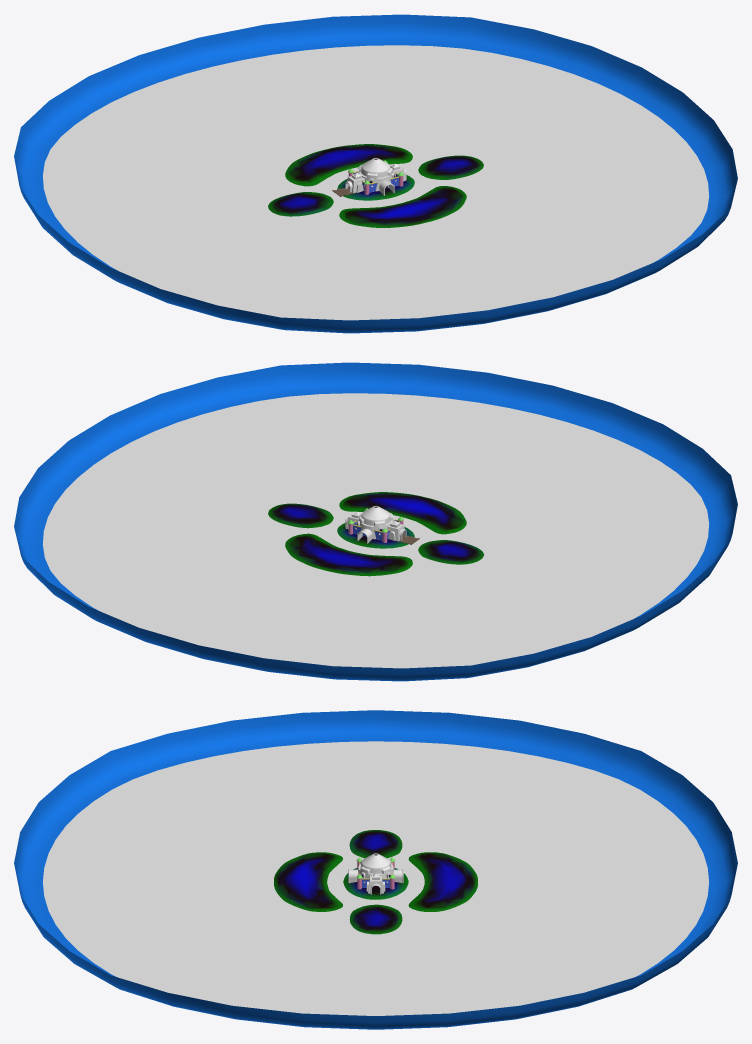
File: Beach.fbx
3 renders of one model, top to bottom at view 1: azimuth 30°, elevation 25°; view 2: azimuth 150°, elevation 25°; view 3: azimuth 270°, elevation 25°, orthographic. The views are drawn at different scales.
Visible parts, largest first — view 1: Island, Island.002, Island.001, Cube.003; view 2: Island, Island.002, Island.001, Cube.003; view 3: Island, Island.002, Island.001, Cube.003.
Boxes of the visible parts, x1=… form: Island: x1=43, y1=45, x2=709, y2=320; Island.002: x1=14, y1=14, x2=737, y2=333; Island.001: x1=268, y1=144, x2=483, y2=227; Cube.003: x1=345, y1=158, x2=406, y2=195; Island: x1=42, y1=393, x2=708, y2=668; Island.002: x1=14, y1=362, x2=737, y2=681; Island.001: x1=268, y1=492, x2=483, y2=576; Cube.003: x1=345, y1=506, x2=406, y2=543; Island: x1=43, y1=741, x2=708, y2=1015; Island.002: x1=14, y1=710, x2=737, y2=1029; Island.001: x1=274, y1=830, x2=477, y2=934; Cube.003: x1=348, y1=853, x2=403, y2=894.
Bounding box in the file's own units: 27729 × 1353 × 27729.
